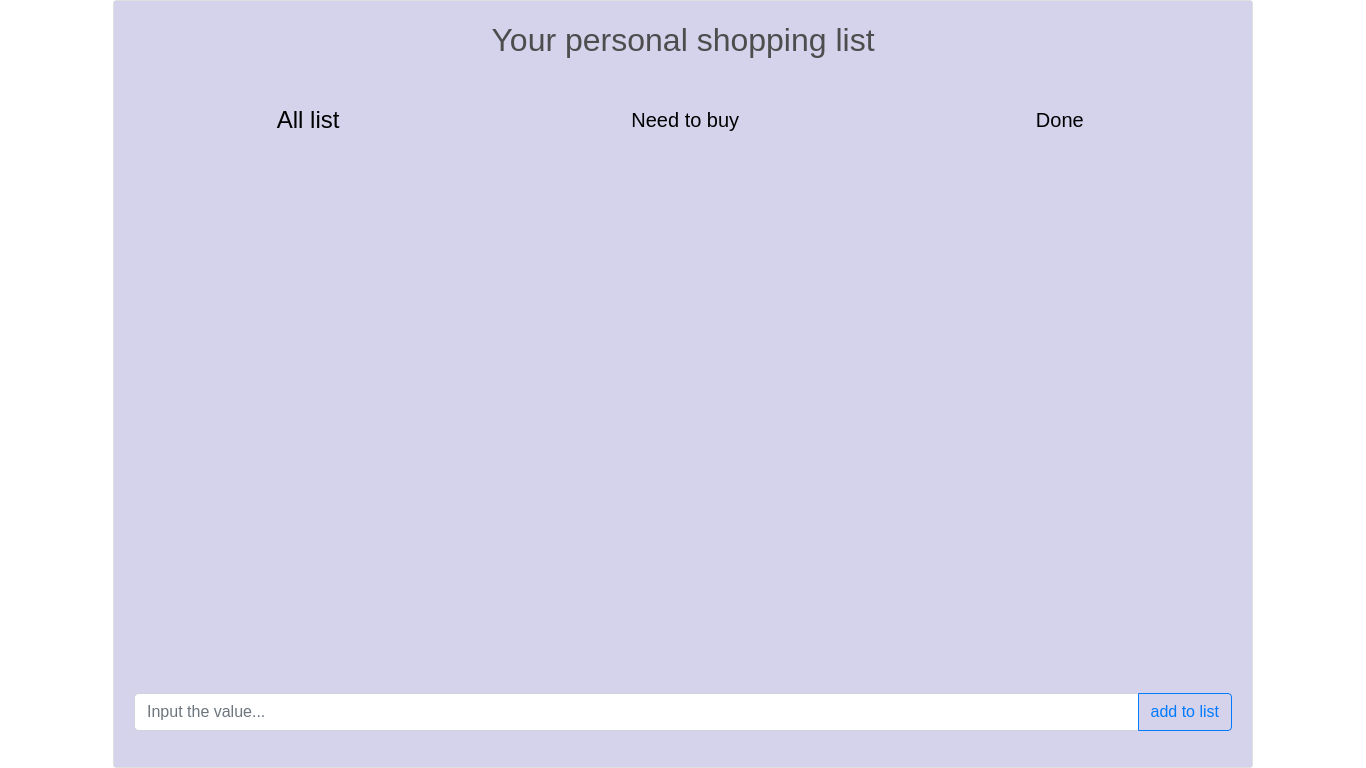
add new Task
In the field with test id "input": (636, 712) [134, 693, 1138, 731], type "firstTask"
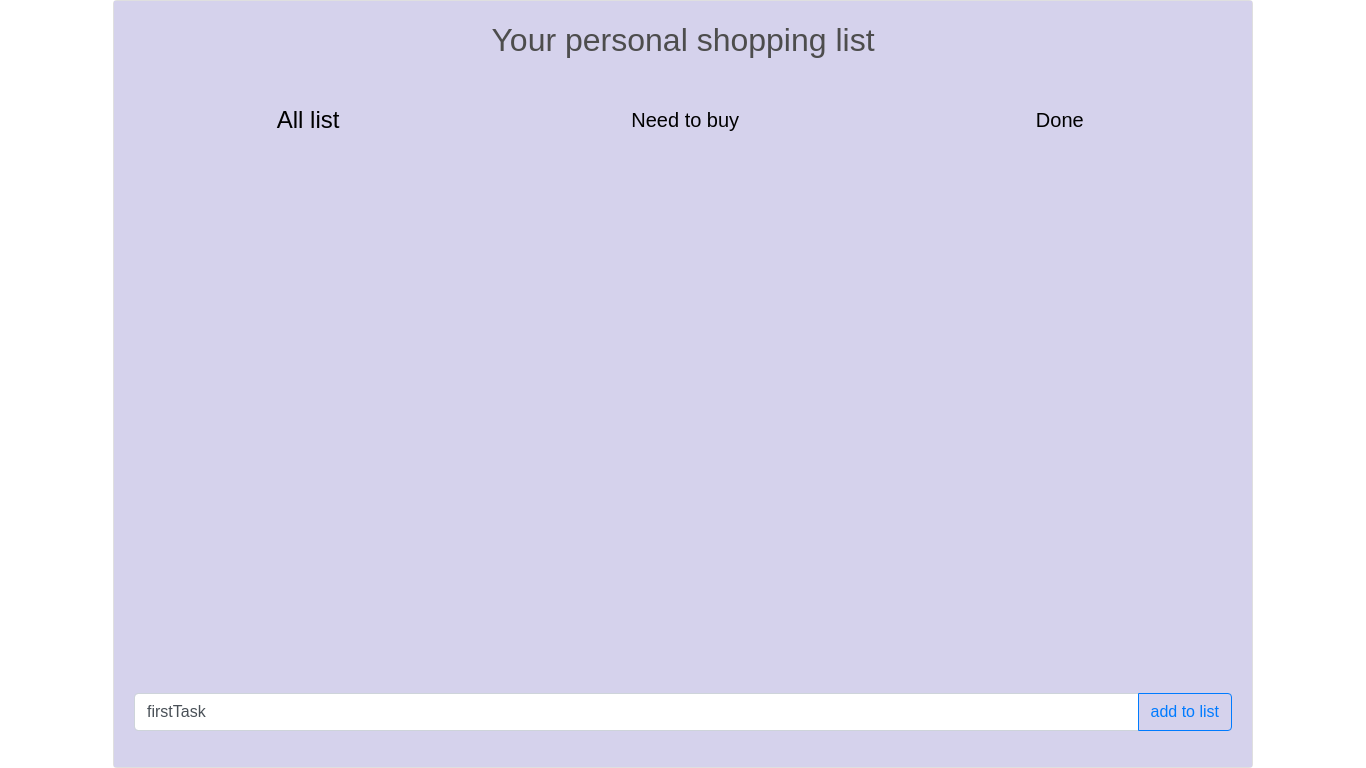
Click the button "add to list": (1185, 712) [1138, 693, 1232, 731]
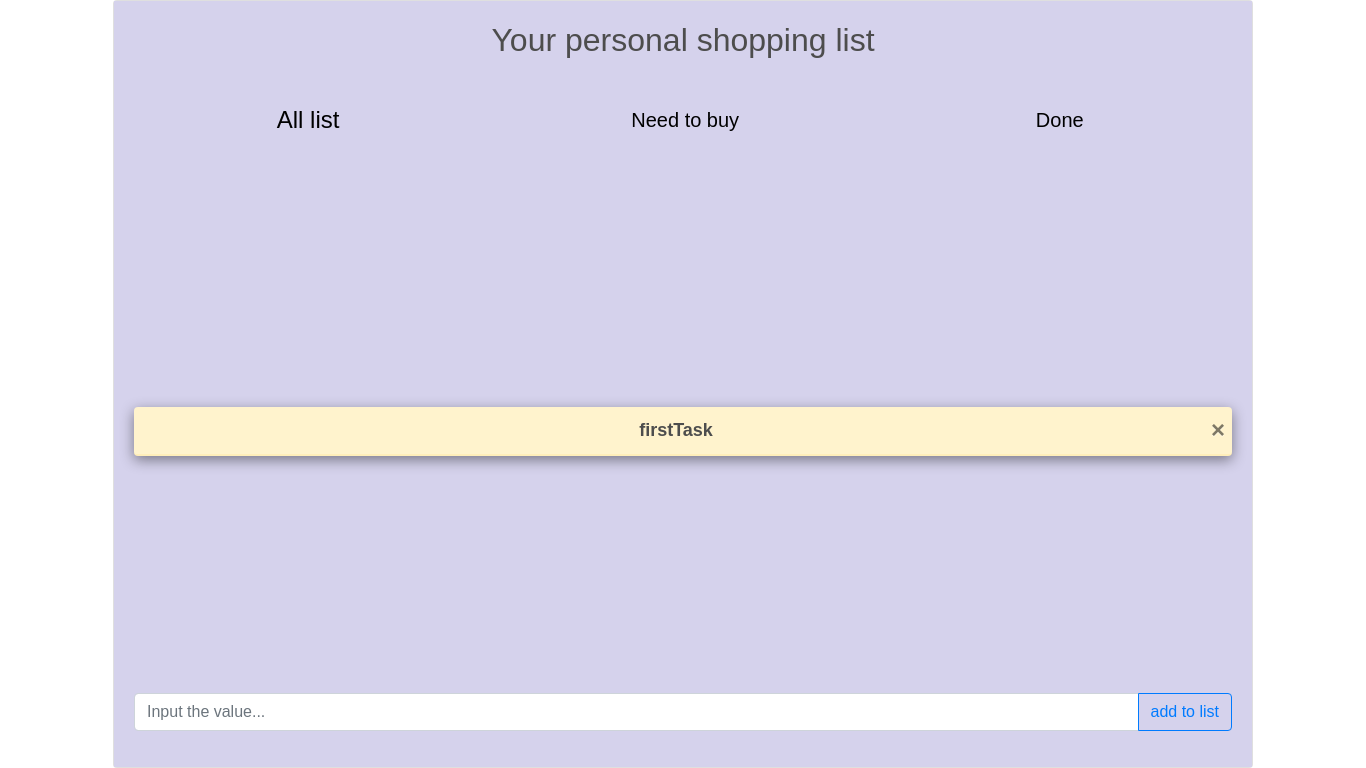
expect the button with test id "element" reads "firstTask": met, box [141, 410, 1211, 451]
